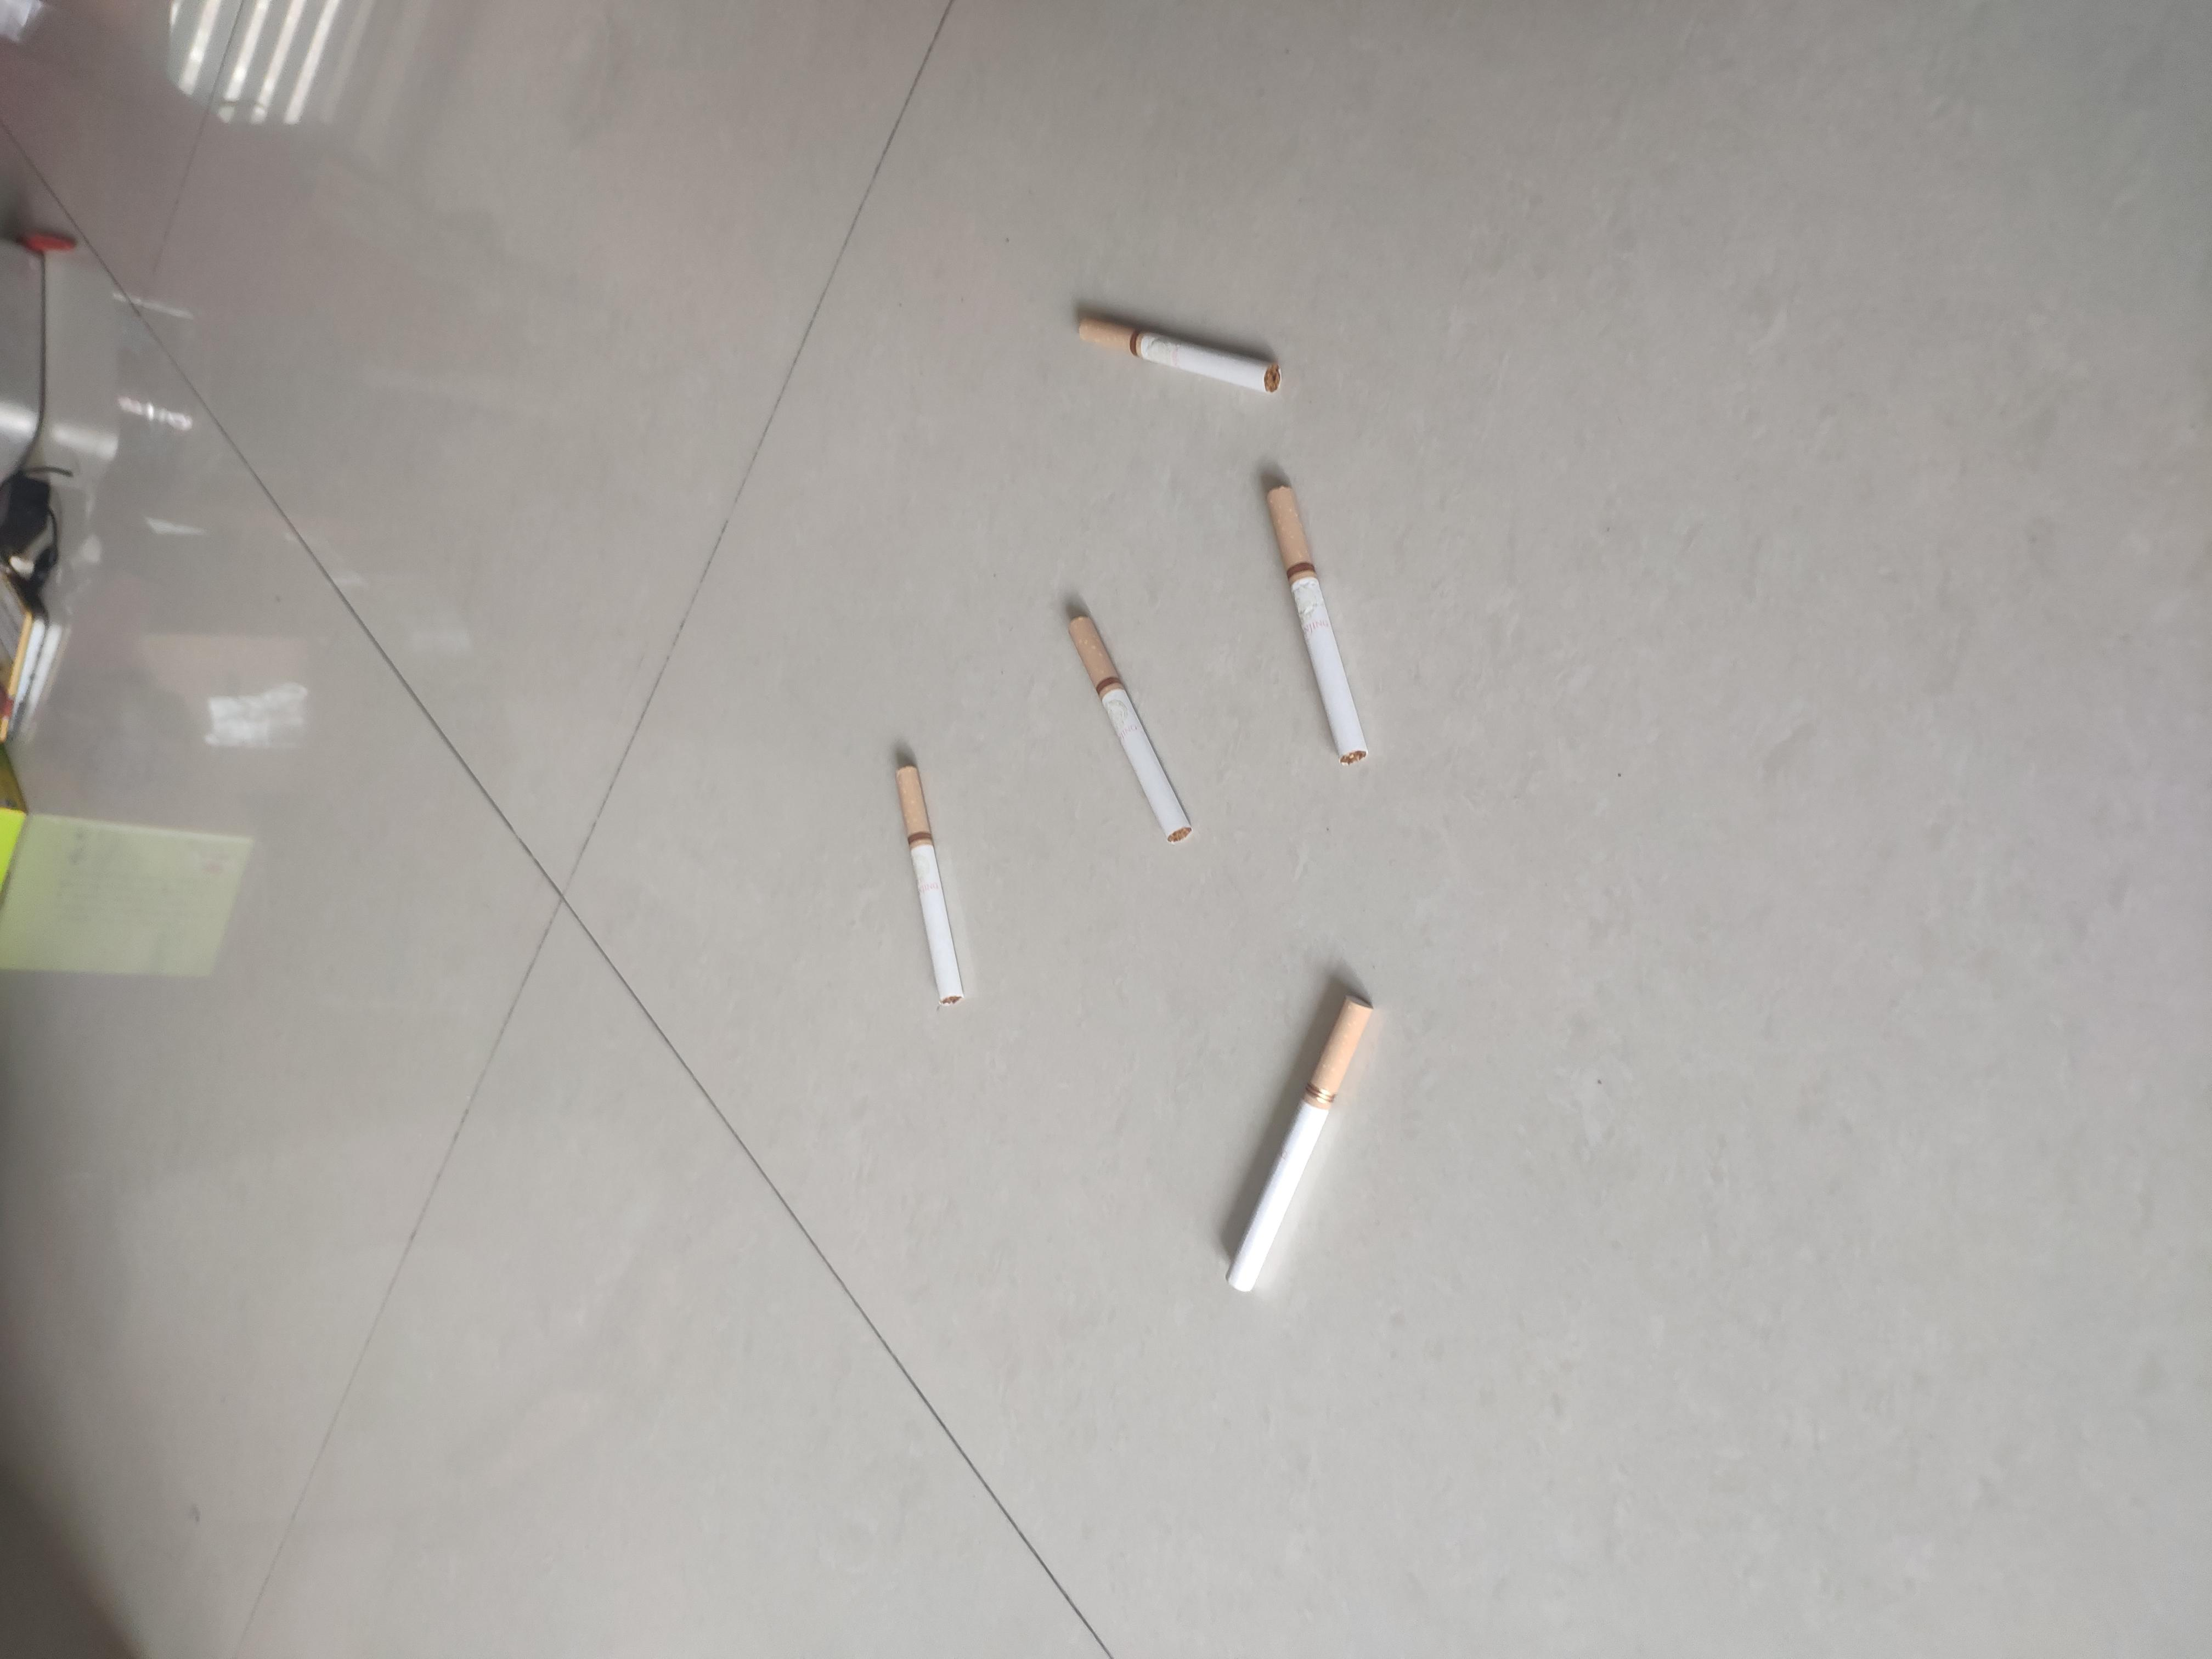smoke: (488, 920, 900, 1033), (1087, 798, 1397, 896), (1193, 948, 1569, 1028), (873, 673, 1197, 725), (1691, 809, 1799, 965)
